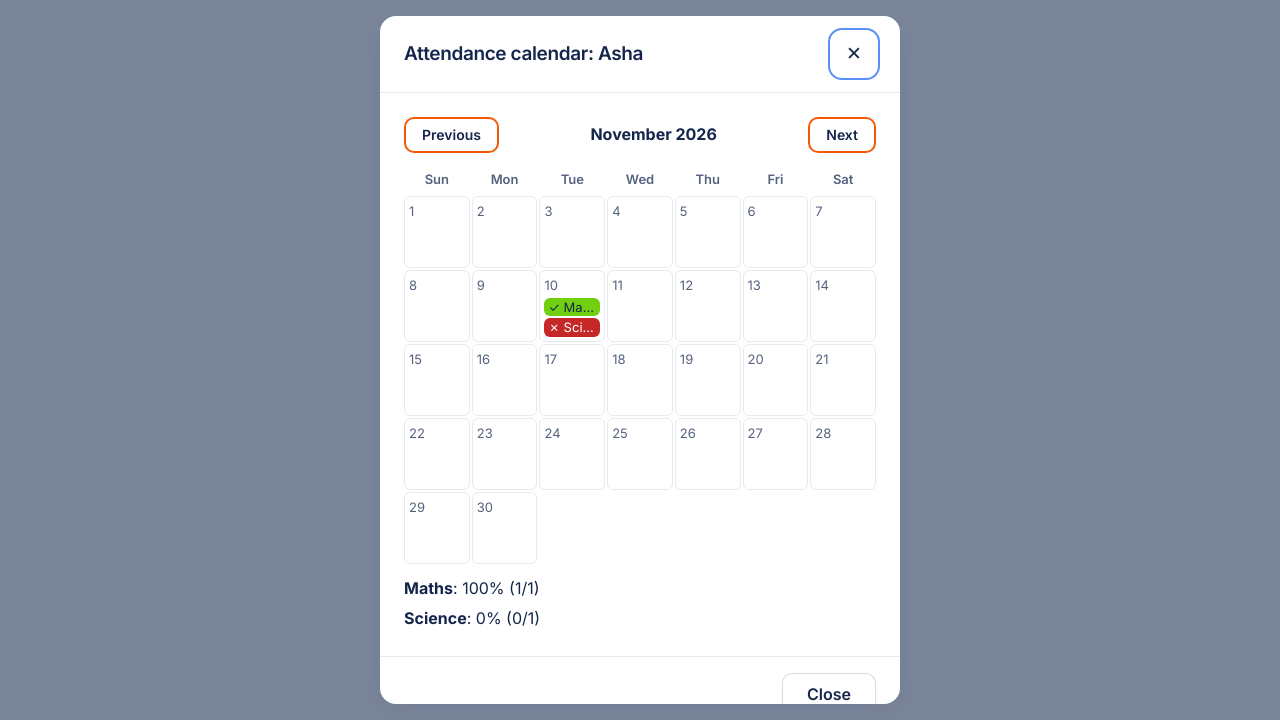
shows both courses of one student on the same day, with per-course totals; month arrows refetch
This screenshot has width=1280, height=720.
Expected: the text "✓ Maths" is shown, [544,298,600,316]
Expected: the text "✗ Science" is shown, [544,318,600,337]
Click the button "Previous": (452, 135) [404,117,499,153]
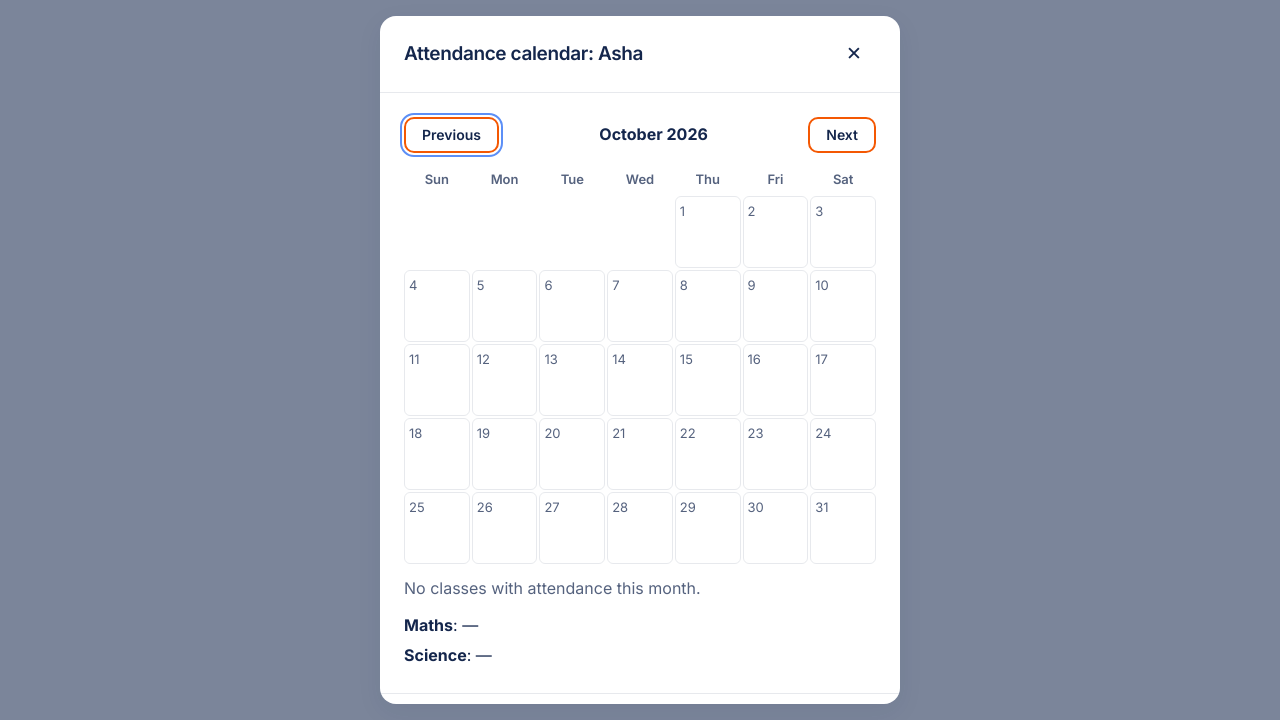
Expected: the text "No classes with attendance this month." is shown, [404,578,701,598]
